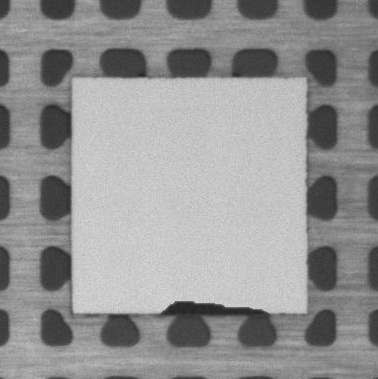DIE_BROKEN: (154, 299, 270, 319)
